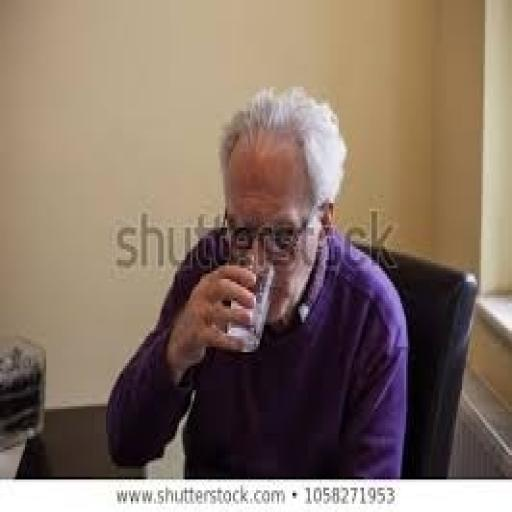drinking: (222, 247, 274, 352)
